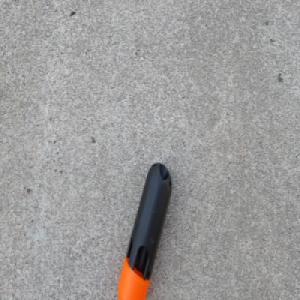PlasticPart: (115, 161, 174, 300)
